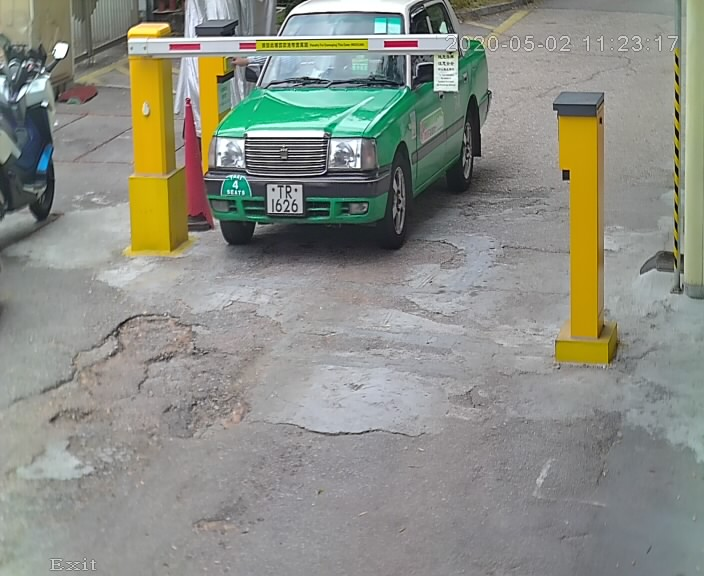taxi: (192, 2, 521, 266)
taxi_mark: (214, 165, 261, 213)
